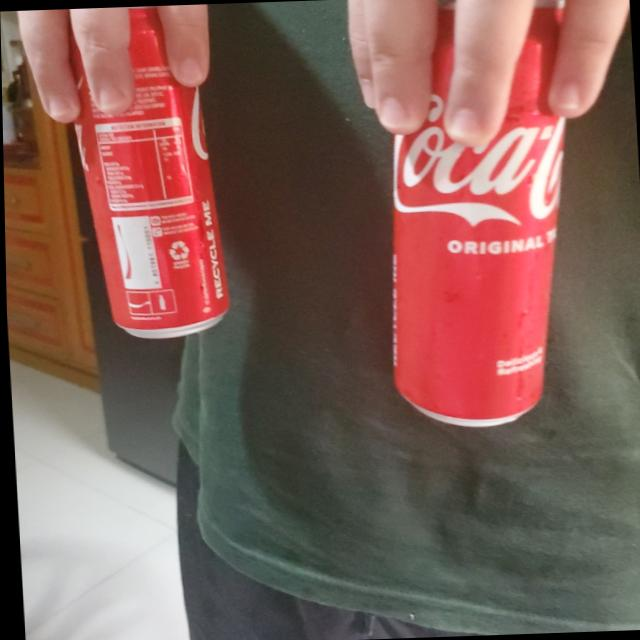coke: (364, 0, 584, 427), (65, 4, 229, 337)
